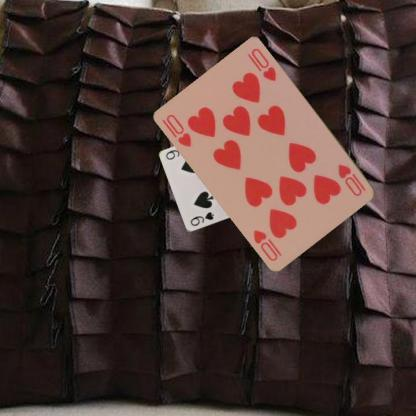10h: (160, 112, 193, 148), (336, 161, 368, 198)
9s: (188, 209, 215, 228)
